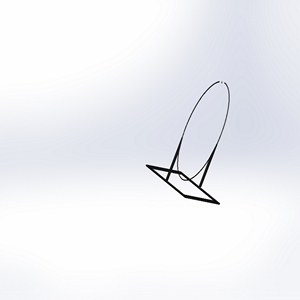circle: (144, 78, 231, 204)
